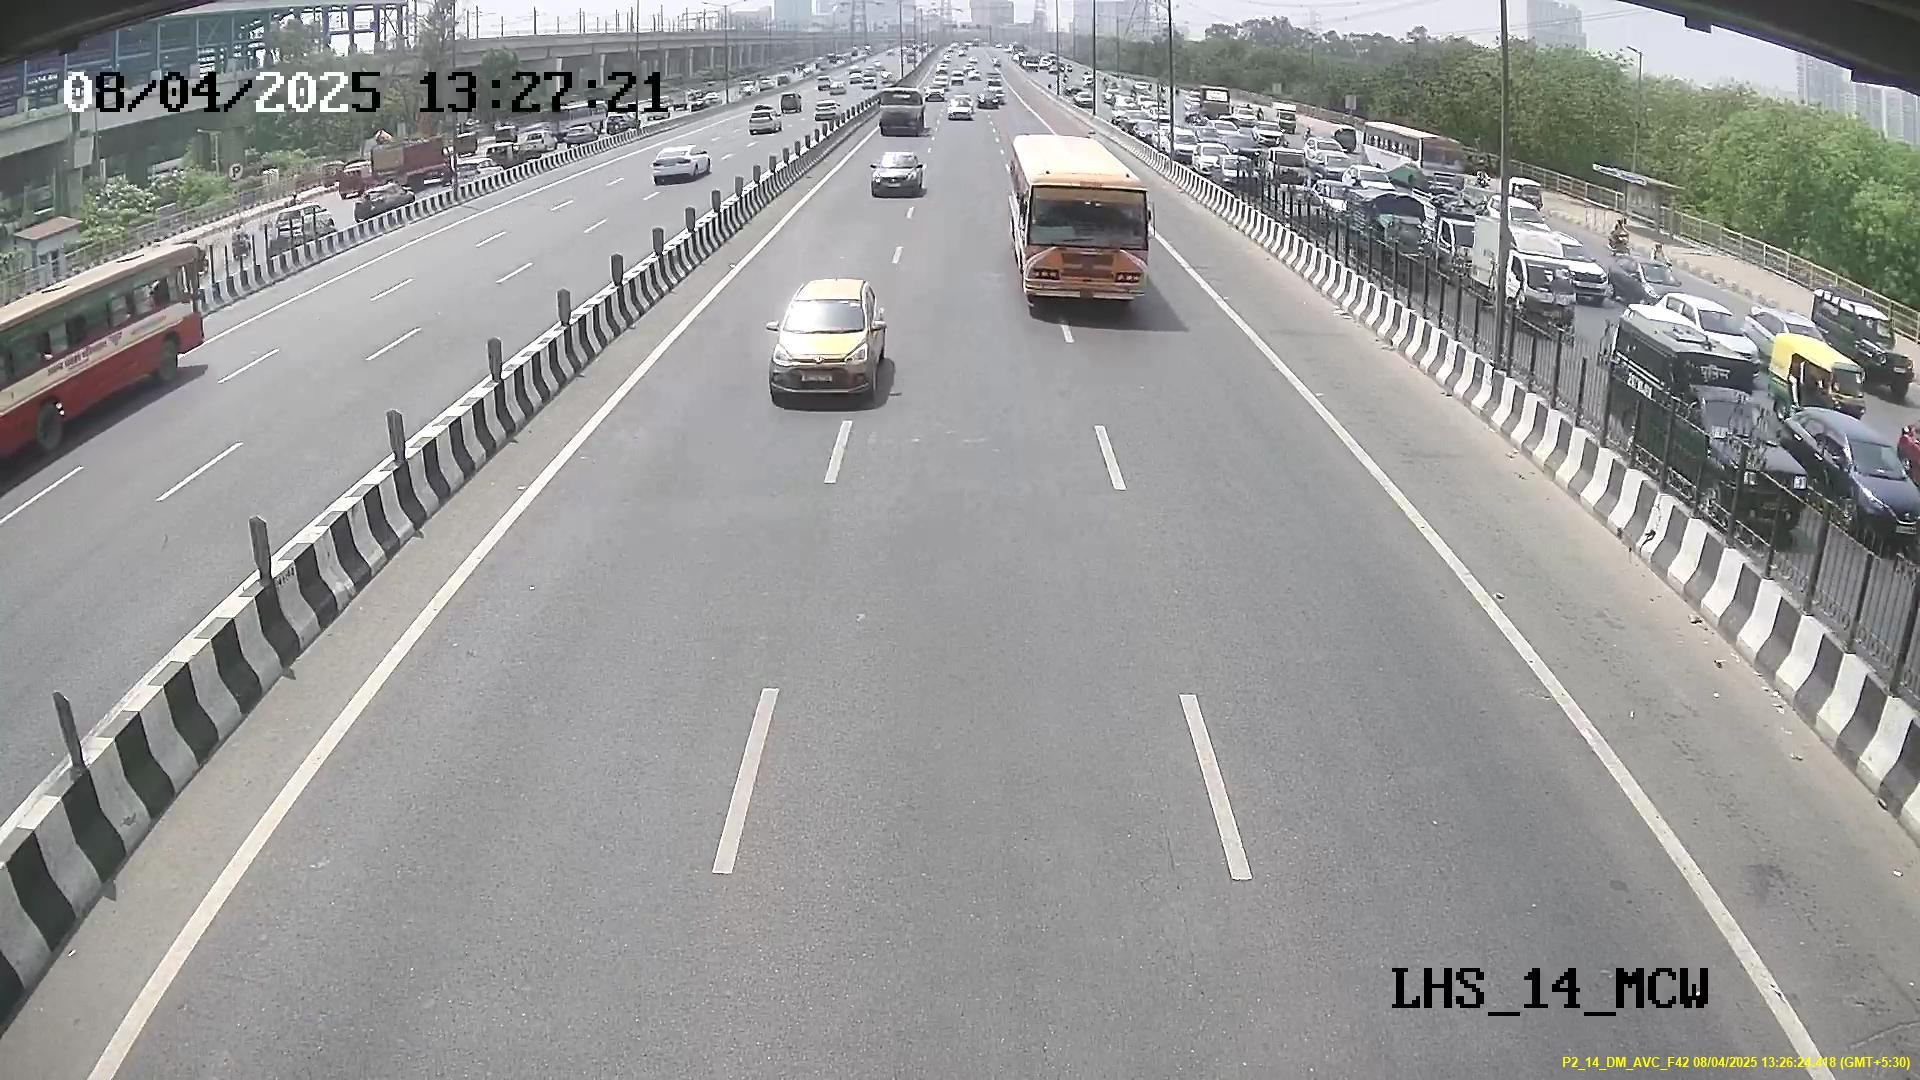bus: (1009, 150, 1159, 320)
car: (767, 285, 889, 413), (868, 149, 931, 204)
